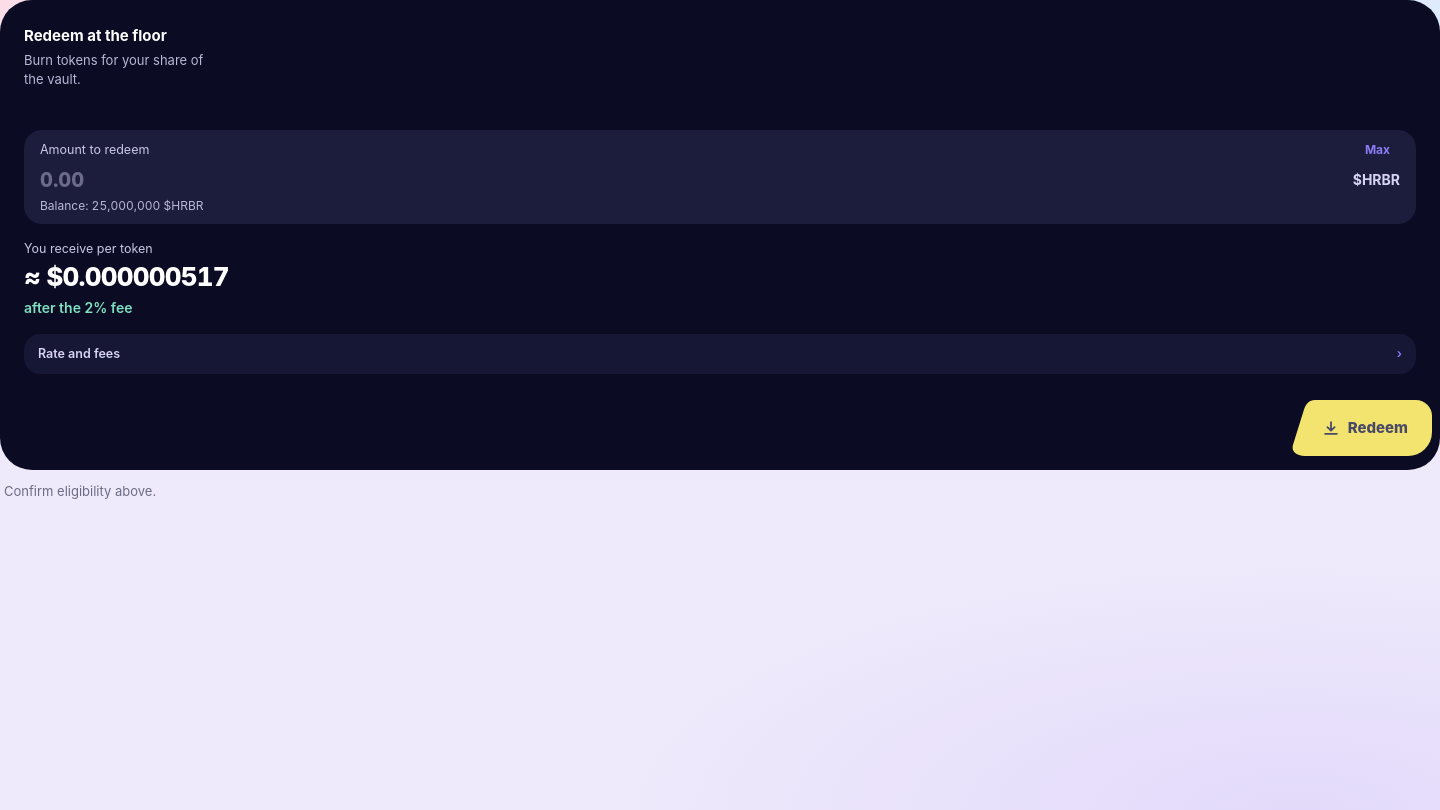
it: <RedeemPanel /> › fills the balance with Max and rejects amounts above it
Click the button "Max": (1377, 150) left=1355, top=132, right=1400, bottom=168
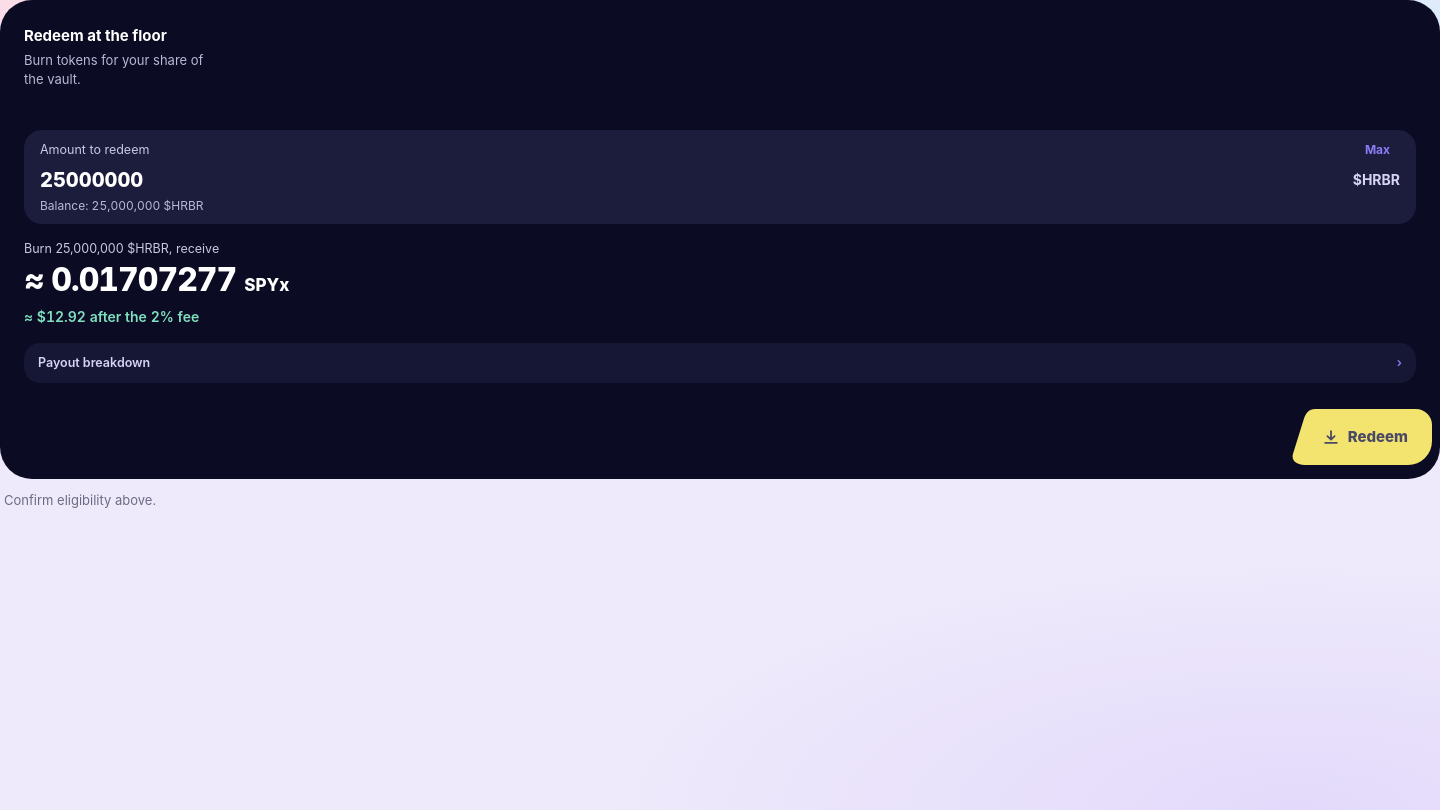
Expected: the field labelled "Amount to redeem" holds "25000000"
Replace the text in the field labelled "Amount to redeem" with "25000000.000001": (691, 180) left=40, top=162, right=1343, bottom=198
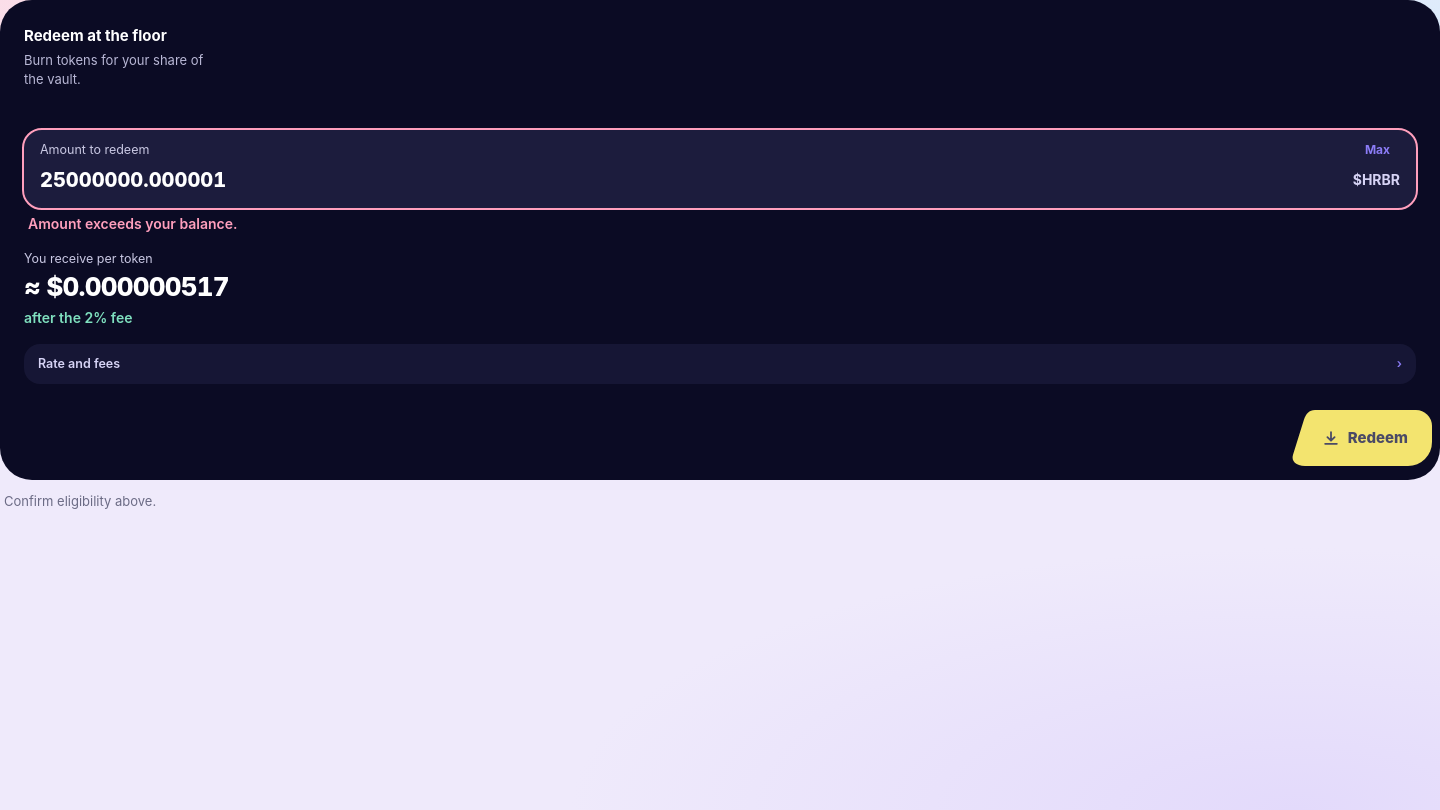
Expected: the button "Redeem" is disabled, left=1291, top=410, right=1432, bottom=466
Expected: the text "Amount exceeds your balance." is shown, left=28, top=215, right=238, bottom=232
